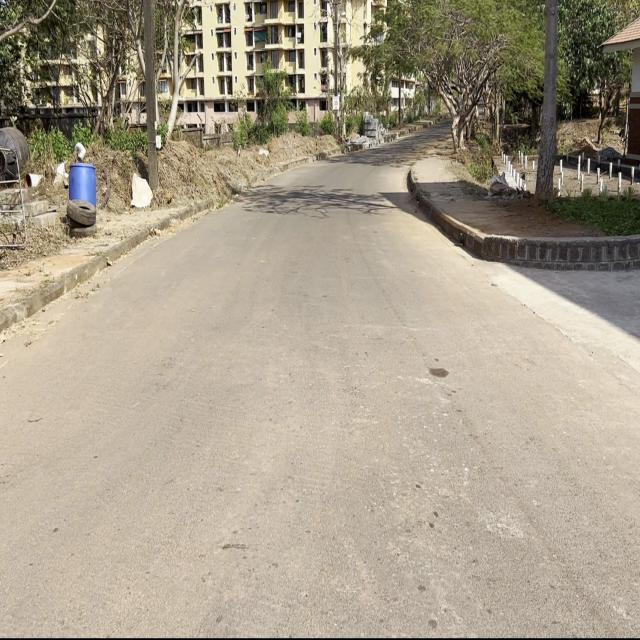Road: (0, 136, 639, 639)
